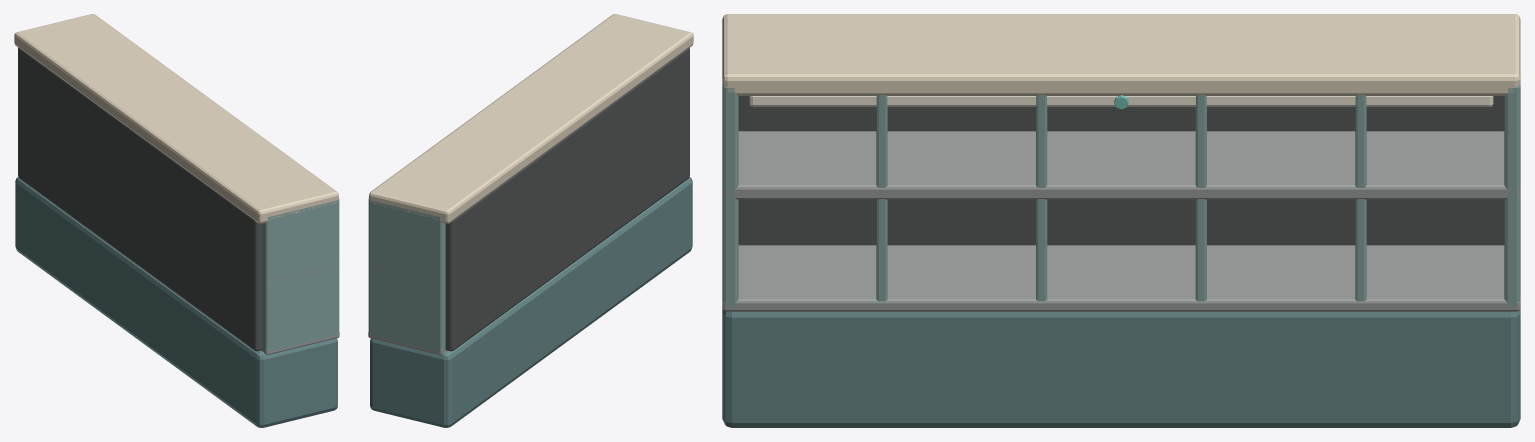
Rendered from fridge.glb.
3 renders of one model, left to right at view 1: azimuth 30°, elevation 25°; view 2: azimuth 150°, elevation 25°; view 3: azimuth 270°, elevation 25°, orthographic. The views are drawn at different scales.
Visible parts, largest first — view 1: fridgeBack, fridgeBase, fridgeTop, fridgeEndL; view 2: fridgeBack, fridgeBase, fridgeTop, fridgeEndR; view 3: fridgeBase, fridgeTop, fridgeBack, middleShelf, lowerShelfLip, coldRail, fridgeEndL, fridgeEndR, cubbyDivider01, cubbyDivider04, cubbyDivider02, cubbyDivider03.
Boxes of the visible parts, x1,y1,x2,y2 form: fridgeBack: (18, 47, 262, 351); fridgeBase: (15, 177, 337, 427); fridgeTop: (14, 14, 338, 223); fridgeEndL: (262, 198, 339, 352); fridgeBack: (445, 47, 689, 351); fridgeBase: (370, 177, 692, 427); fridgeTop: (369, 14, 693, 223); fridgeEndR: (368, 198, 445, 352); fridgeBase: (722, 309, 1520, 427); fridgeTop: (722, 14, 1520, 95); fridgeBack: (738, 96, 1504, 245); middleShelf: (722, 131, 1520, 199); lowerShelfLip: (722, 245, 1520, 311); coldRail: (749, 96, 1493, 106); fridgeEndL: (722, 85, 738, 306); fridgeEndR: (1504, 85, 1520, 306); cubbyDivider01: (876, 94, 887, 301); cubbyDivider04: (1355, 94, 1366, 301); cubbyDivider02: (1036, 94, 1047, 301); cubbyDivider03: (1195, 94, 1206, 301).
Size of the model in its own units: 1.15 by 2.9 by 5.9.
